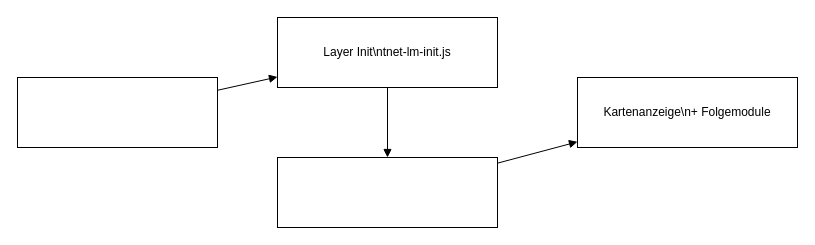
Image size: 815x245. Some labels were removed from this diagram. Each missing label, with the centre of its shape:
"App Events\ntnet-app.js" belongs at (117,112).
"Layer State\nAktiv/Passiv" belongs at (387,192).
